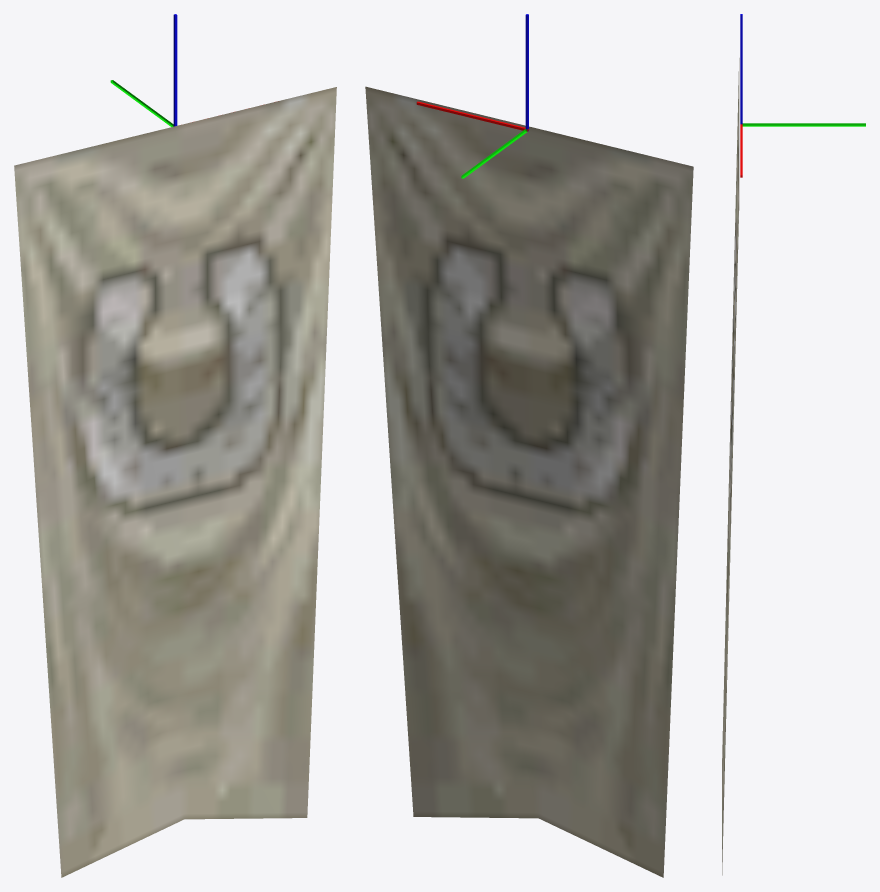
The model's file is flag.glb.
3 views of the same model, side by side, from view 1: azimuth 30°, elevation 25°; view 2: azimuth 150°, elevation 25°; view 3: azimuth 270°, elevation 25° (orthographic). The views are drawn at different scales.
Visible parts, largest first — view 1: building flag stableModel, Dummy_hotspot; view 2: building flag stableModel, Dummy_hotspot; view 3: building flag stableModel, Dummy_hotspot.
Part boxes in pixels (x1=…): building flag stableModel: x1=14, y1=87, x2=336, y2=877; Dummy_hotspot: x1=110, y1=14, x2=177, y2=126; building flag stableModel: x1=365, y1=86, x2=693, y2=877; Dummy_hotspot: x1=416, y1=14, x2=528, y2=178; building flag stableModel: x1=722, y1=58, x2=739, y2=875; Dummy_hotspot: x1=740, y1=14, x2=865, y2=177.
Size of the model in its own units: 0.7383 by 1.8 by 0.292.
Materials: 2 (1 with a texture image).
